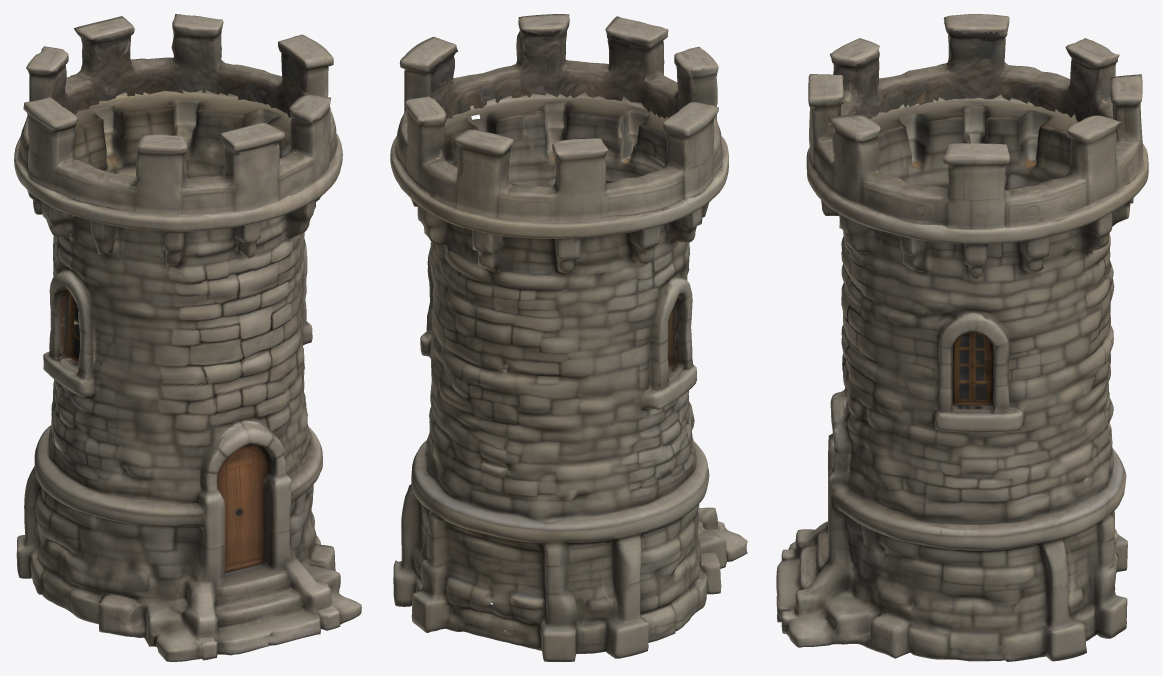
Rendered from a_cylindrical_castle__0610143652_texture.fbx.
The picture shows the model from 3 angles, left to right: view 1: azimuth 30°, elevation 25°; view 2: azimuth 150°, elevation 25°; view 3: azimuth 270°, elevation 25°; orthographic projection. The views are drawn at different scales.
Parts seen in each view (by area): view 1: input; view 2: input; view 3: input.
Part boxes in pixels (<box>): input: <box>14,14,361,661</box>; input: <box>390,14,747,661</box>; input: <box>776,14,1148,661</box>.
Size of the model in its own units: 121 by 200 by 131.
Materials: 1 (1 with a texture image).
